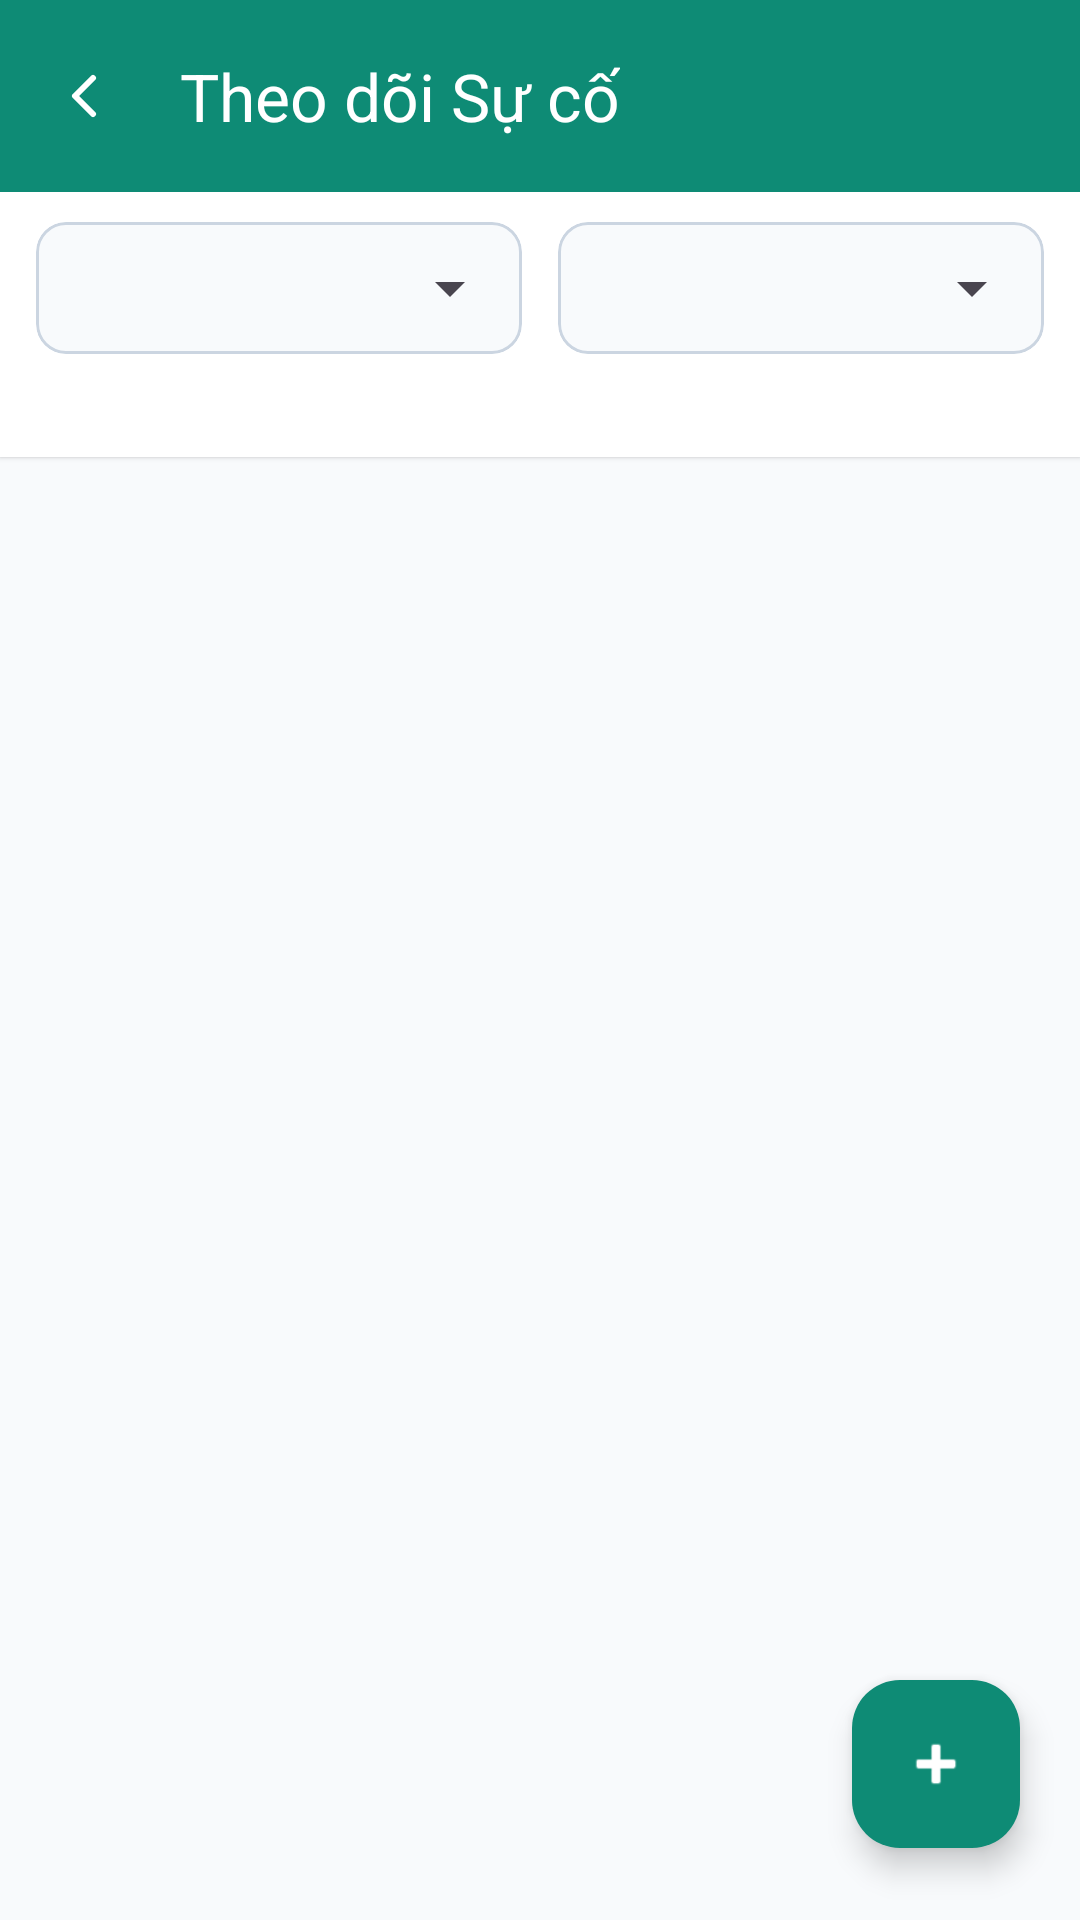

Screen size 1080×1920. Icon name, then its box in pixels as (x1, y1, x2, y2):
Thêm báo cáo sự cố: (852, 1680, 1020, 1848)
